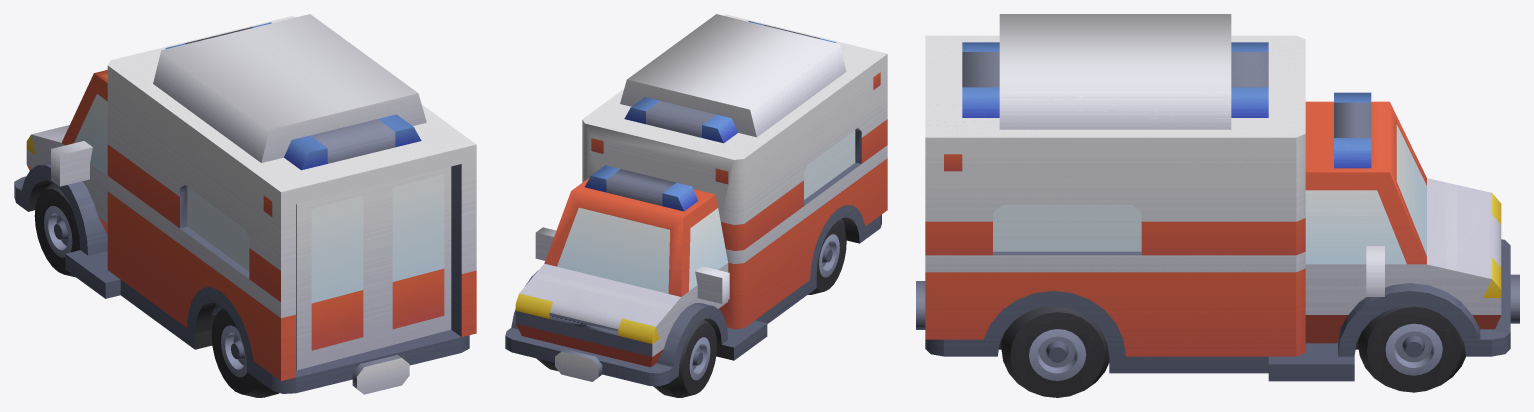
File: ambulance_inverted.glb
The picture shows the model from 3 angles, left to right: view 1: azimuth 30°, elevation 25°; view 2: azimuth 150°, elevation 25°; view 3: azimuth 270°, elevation 25°; orthographic projection. The views are drawn at different scales.
Parts seen in each view (by area): view 1: body, door-left, door-right, wheel-front-left, wheel-back-left; view 2: body, wheel-front-left, wheel-back-left; view 3: body, wheel-back-right, wheel-front-right.
Part boxes in pixels (x1=…): body: x1=14, y1=14, x2=476, y2=394; door-left: x1=296, y1=184, x2=377, y2=370; door-right: x1=378, y1=166, x2=451, y2=348; wheel-front-left: x1=34, y1=183, x2=80, y2=277; wheel-back-left: x1=211, y1=308, x2=279, y2=397; body: x1=505, y1=14, x2=887, y2=386; wheel-front-left: x1=653, y1=319, x2=717, y2=397; wheel-back-left: x1=808, y1=220, x2=846, y2=294; body: x1=916, y1=14, x2=1519, y2=381; wheel-back-right: x1=1000, y1=306, x2=1109, y2=397; wheel-front-right: x1=1357, y1=306, x2=1465, y2=392.
Size of what is drawn, in the model's own units: 0.0273 by 0.0328 by 0.0592.
Materials: 1 (1 with a texture image).
